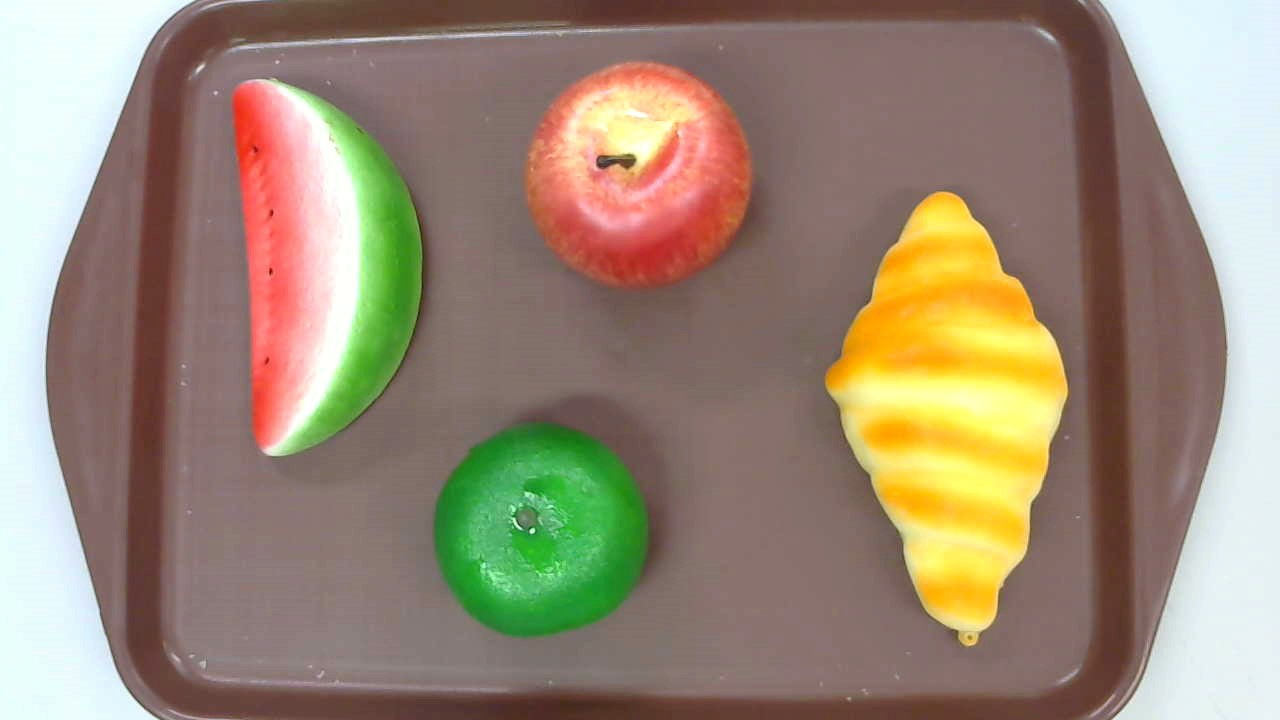croissant: (824, 191, 1068, 646)
green orange: (434, 422, 650, 639)
red apple: (522, 60, 753, 293)
watermelon: (232, 77, 422, 458)
